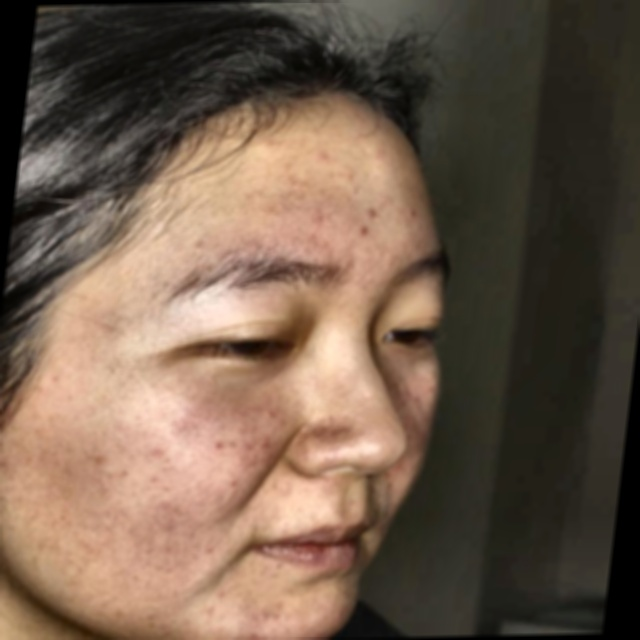comedone: (348, 203, 387, 244)
